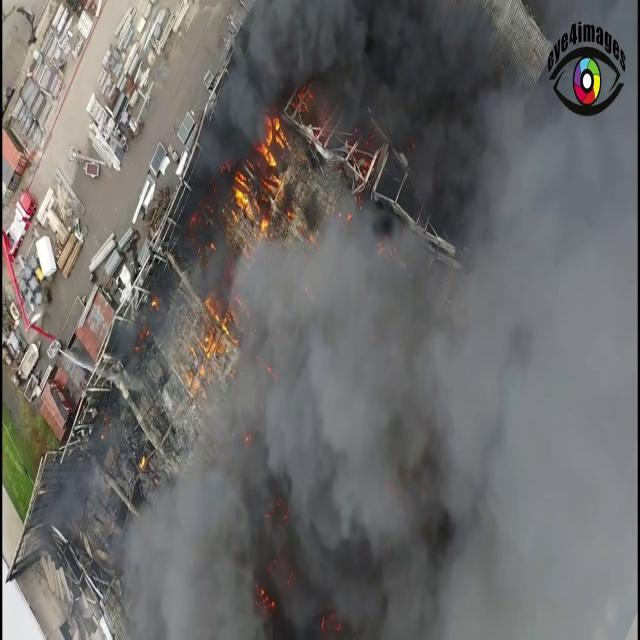Fire: (226, 129, 308, 244)
Smoke: (82, 0, 635, 640)
